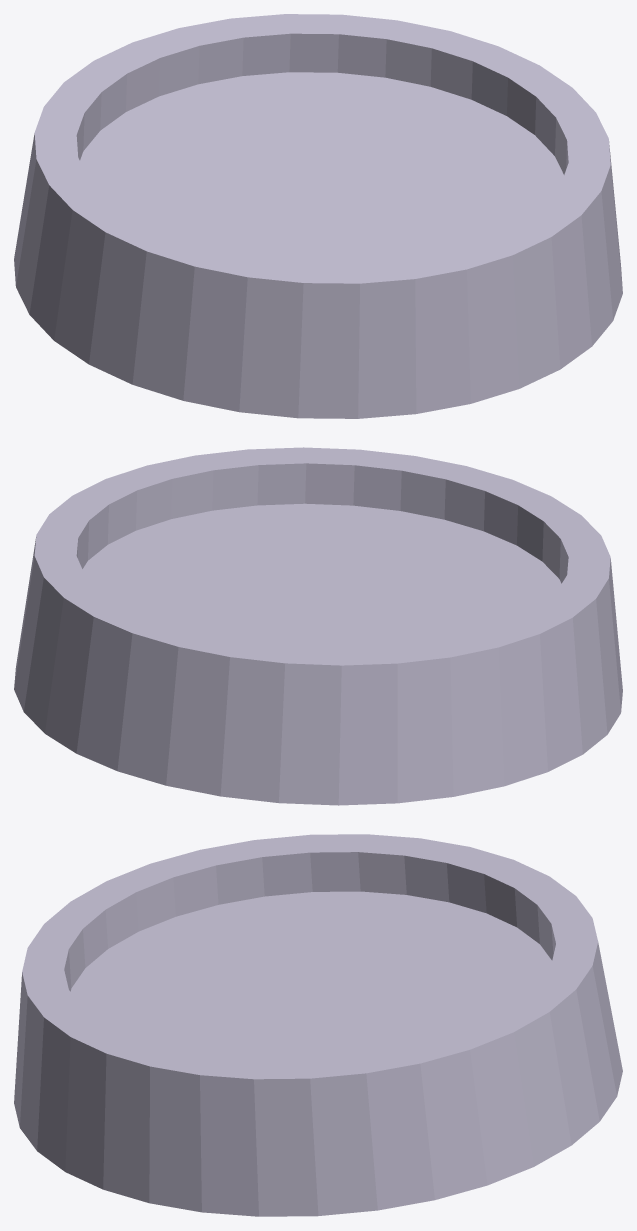
File: checkerPiece.fbx
3 views of the same model, one above another, from view 1: azimuth 30°, elevation 25°; view 2: azimuth 150°, elevation 25°; view 3: azimuth 270°, elevation 25° (orthographic).
Visible parts, largest first — view 1: Cylinder; view 2: Cylinder; view 3: Cylinder.
Part boxes in pixels (<box>): Cylinder: <box>14,14,622,418</box>; Cylinder: <box>14,447,622,805</box>; Cylinder: <box>14,834,622,1216</box>.
Bounding box in the file's own units: 84.57 × 24.72 × 84.43.
